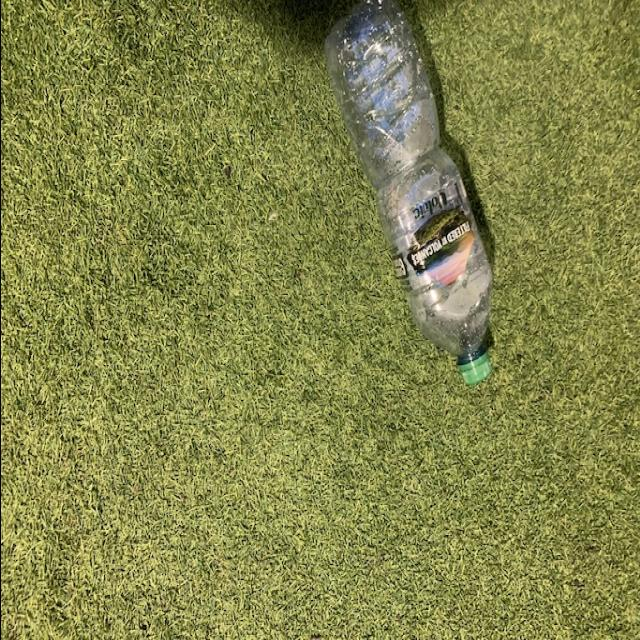litter: (320, 1, 502, 389)
